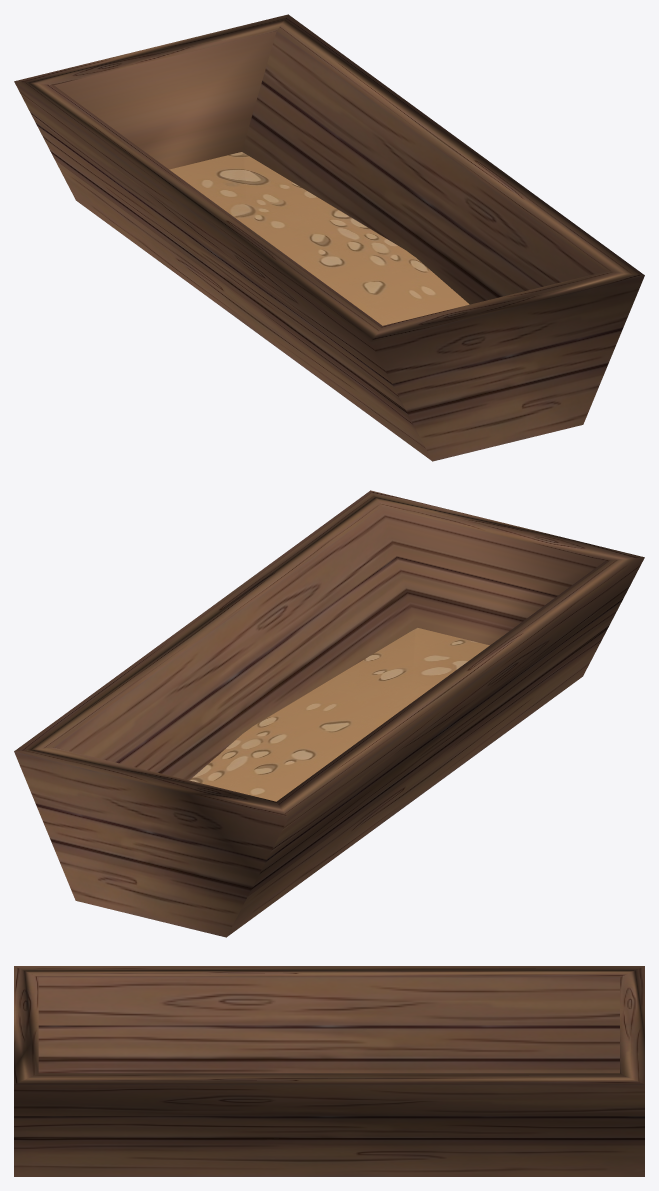
File: AnimalFoodEmpty.glb
3 renders of one model, top to bottom at view 1: azimuth 30°, elevation 25°; view 2: azimuth 150°, elevation 25°; view 3: azimuth 270°, elevation 25°, orthographic. The views are drawn at different scales.
Visible parts, largest first — view 1: AnimalFoodEmpty; view 2: AnimalFoodEmpty; view 3: AnimalFoodEmpty.
Boxes of the visible parts, <box> form: AnimalFoodEmpty: <box>14,14,644,461</box>; AnimalFoodEmpty: <box>14,490,644,937</box>; AnimalFoodEmpty: <box>14,966,644,1176</box>.
Size of what is drawn, in the model's own units: 1.32 by 0.6196 by 2.98.
1 material, 1 textured.
